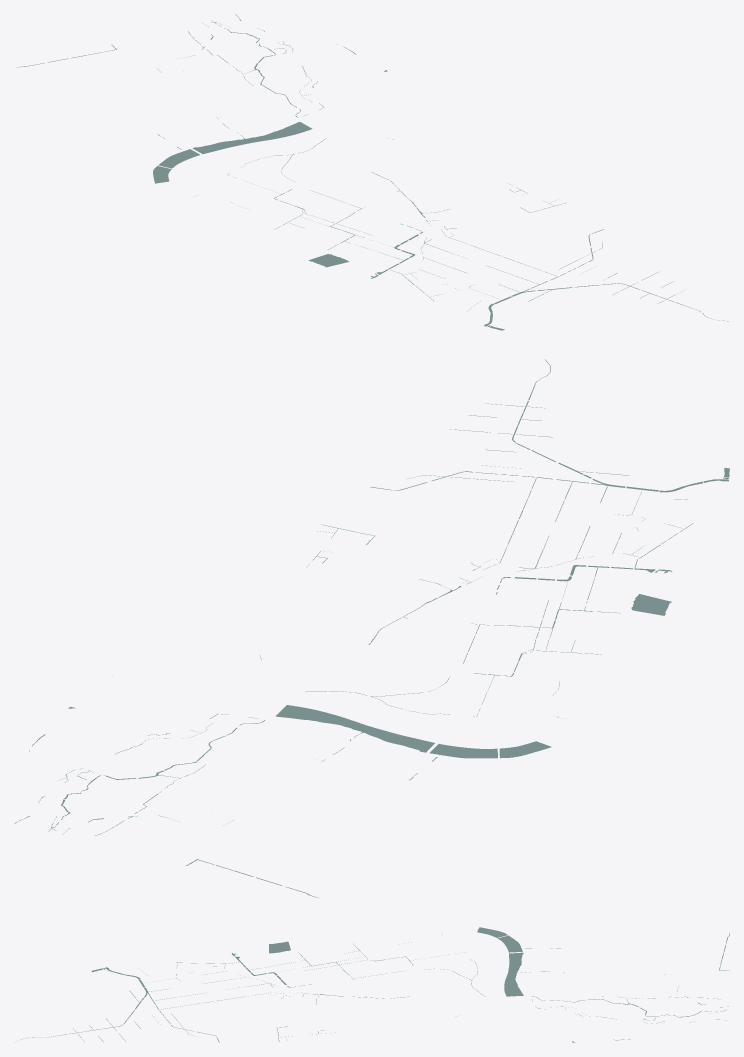
File: corridor-water-river-packed.glb
3 renders of one model, top to bottom at view 1: azimuth 30°, elevation 25°; view 2: azimuth 150°, elevation 25°; view 3: azimuth 270°, elevation 25°, orthographic. The views are drawn at different scales.
Bounding box in the file's own units: 1798 × 0 × 4709.
